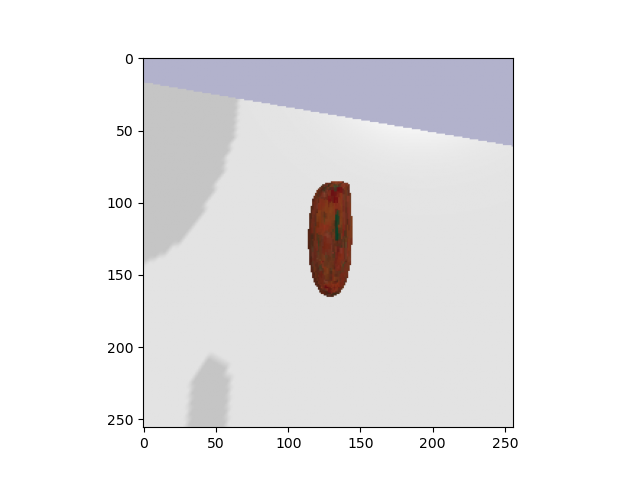v249b387_106: (298, 177, 365, 302)
